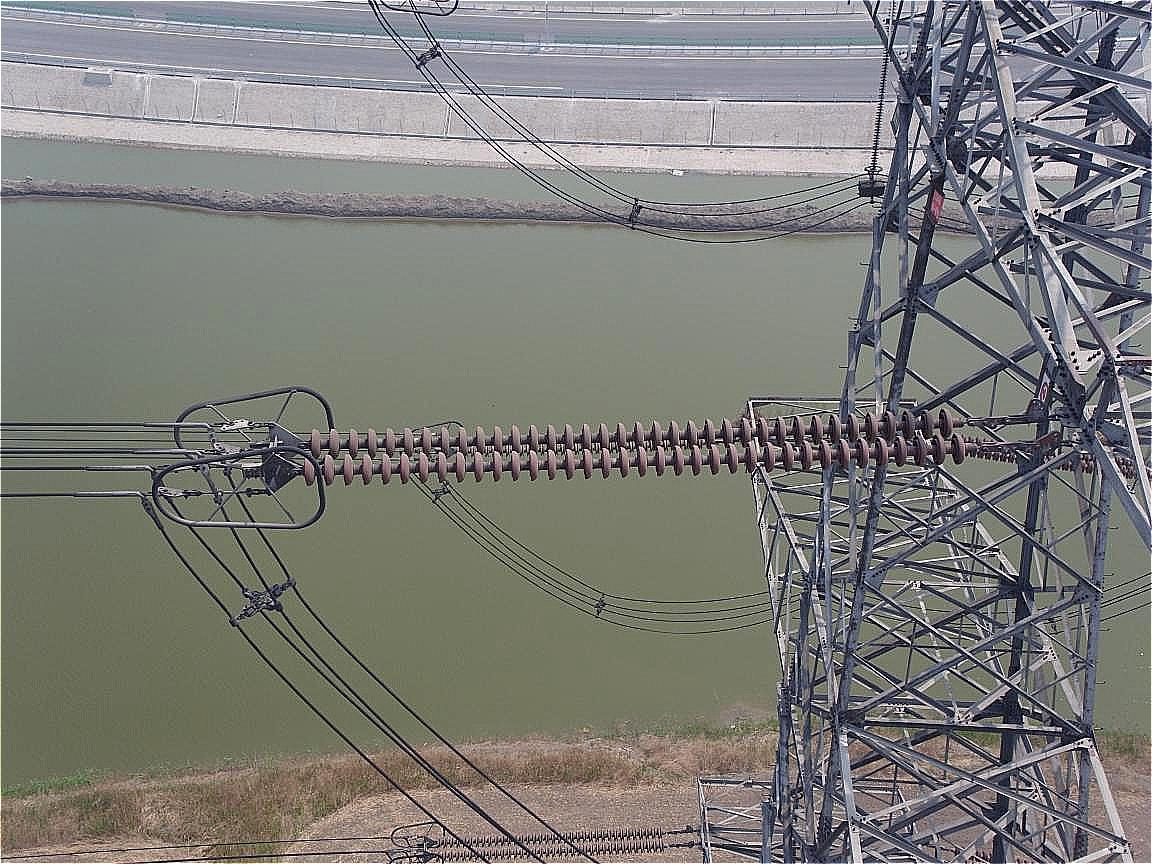insultor1: (254, 405, 1004, 500)
